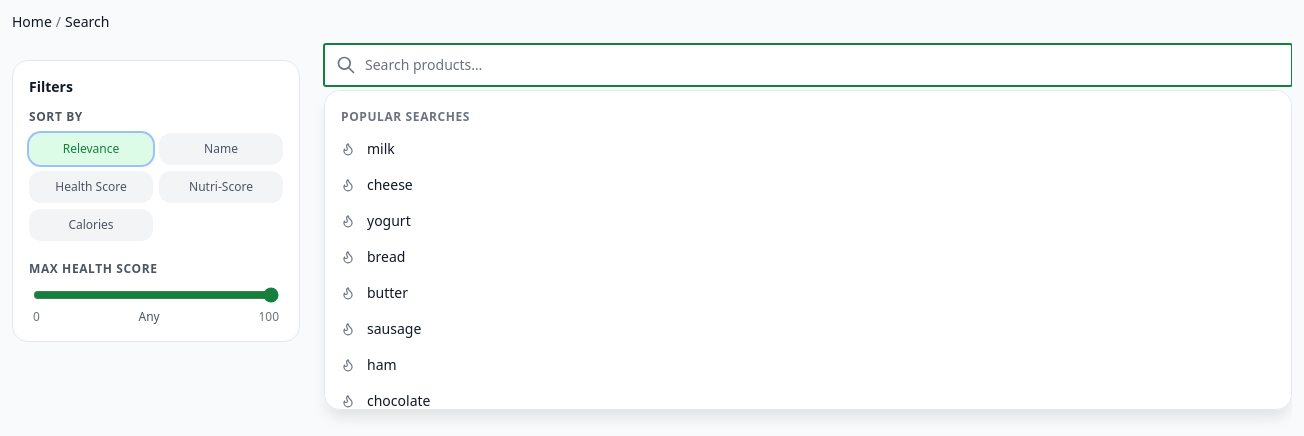
Test: SearchPage › clears search when clear button is clicked
This screenshot has width=1304, height=436.
Type "chips" into the dropdown with placeholder "Search products…" at (808,65), box [324,44,1292,86]
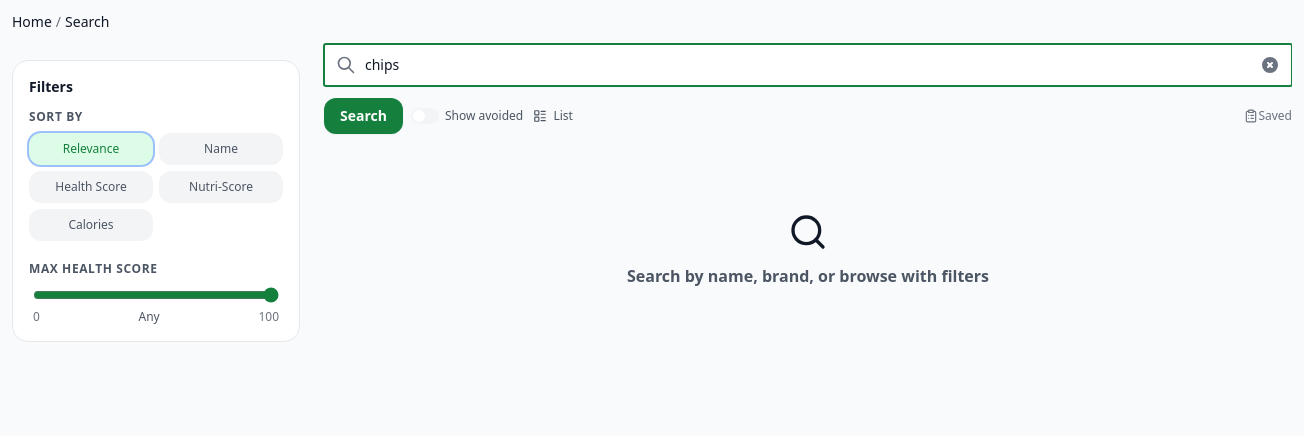
Click the button named "Clear search" at (1270,65), box [1260,55,1280,75]
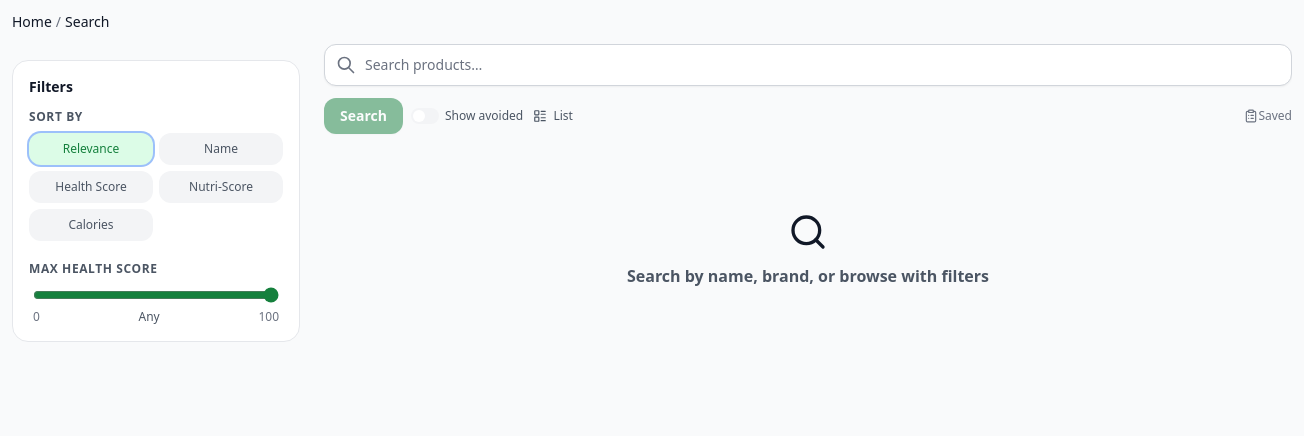
Check: the dropdown with placeholder "Search products…" is empty, box [324,44,1292,86]
